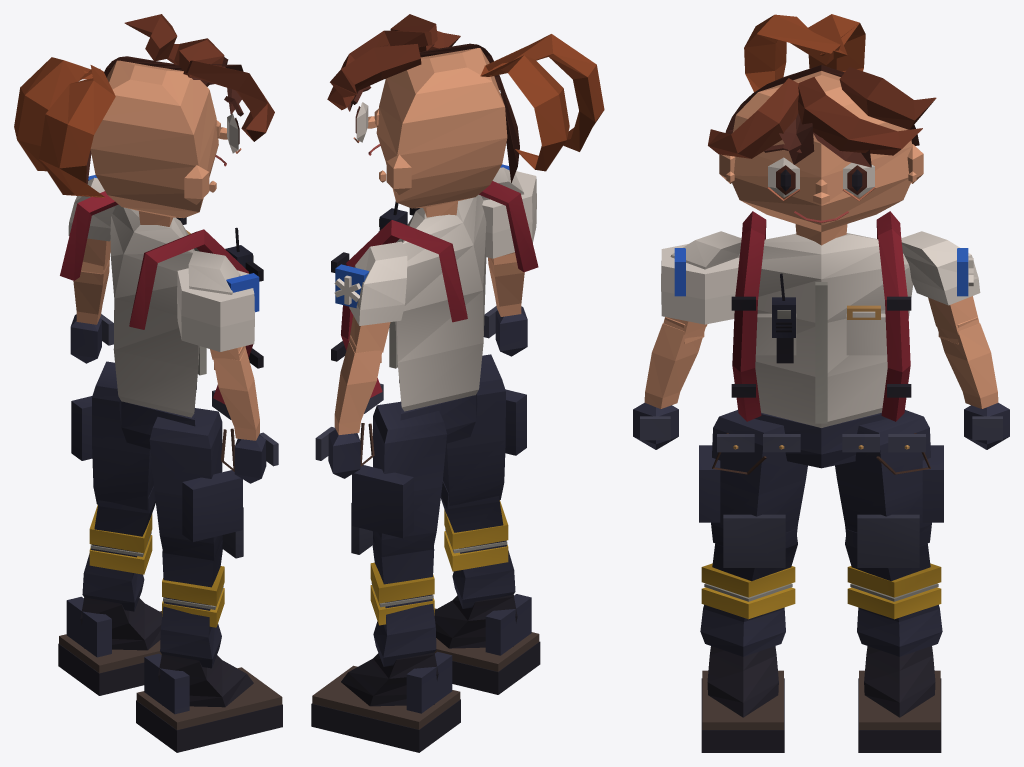
3 views of the same model, side by side, from view 1: azimuth 30°, elevation 25°; view 2: azimuth 150°, elevation 25°; view 3: azimuth 270°, elevation 25° (orthographic).
Visible parts, largest first — view 1: head_pal_picketWhite, torso_pal_picketWhite, legR_pal_picketWhite, footR_pal_picketWhite, footL_pal_picketWhite, armR_pal_picketWhite, legL_pal_picketWhite, shinR_pal_picketWhite, shinL_pal_picketWhite, foreArmR_pal_picketWhite, hip_pal_picketWhite, foreArmL_pal_picketWhite (+3 smaller); view 2: head_pal_picketWhite, torso_pal_picketWhite, legL_pal_picketWhite, footL_pal_picketWhite, footR_pal_picketWhite, legR_pal_picketWhite, shinL_pal_picketWhite, shinR_pal_picketWhite, armL_pal_picketWhite, foreArmL_pal_picketWhite, armR_pal_picketWhite, hip_pal_picketWhite (+3 smaller); view 3: torso_pal_picketWhite, head_pal_picketWhite, legL_pal_picketWhite, legR_pal_picketWhite, footL_pal_picketWhite, footR_pal_picketWhite, shinR_pal_picketWhite, shinL_pal_picketWhite, armR_pal_picketWhite, hip_pal_picketWhite, armL_pal_picketWhite, foreArmR_pal_picketWhite (+3 smaller).
Boxes of the visible parts, <box> form: head_pal_picketWhite: <box>14,14,274,226</box>; torso_pal_picketWhite: <box>60,191,263,417</box>; legR_pal_picketWhite: <box>149,408,243,560</box>; footR_pal_picketWhite: <box>136,653,282,752</box>; footL_pal_picketWhite: <box>58,596,161,695</box>; armR_pal_picketWhite: <box>177,250,259,360</box>; legL_pal_picketWhite: <box>71,361,153,510</box>; shinR_pal_picketWhite: <box>160,540,224,668</box>; shinL_pal_picketWhite: <box>82,486,155,611</box>; foreArmR_pal_picketWhite: <box>213,346,259,440</box>; hip_pal_picketWhite: <box>119,386,234,471</box>; foreArmL_pal_picketWhite: <box>73,254,109,324</box>; head_pal_picketWhite: <box>327,14,604,217</box>; torso_pal_picketWhite: <box>331,181,538,411</box>; legL_pal_picketWhite: <box>351,401,446,557</box>; footL_pal_picketWhite: <box>311,651,460,752</box>; footR_pal_picketWhite: <box>434,594,540,694</box>; legR_pal_picketWhite: <box>443,354,526,505</box>; shinL_pal_picketWhite: <box>370,535,436,666</box>; shinR_pal_picketWhite: <box>441,480,515,608</box>; armL_pal_picketWhite: <box>334,241,407,353</box>; foreArmL_pal_picketWhite: <box>334,335,382,434</box>; armR_pal_picketWhite: <box>481,164,536,258</box>; hip_pal_picketWhite: <box>360,380,477,466</box>; torso_pal_picketWhite: <box>731,211,913,427</box>; head_pal_picketWhite: <box>708,14,936,245</box>; legL_pal_picketWhite: <box>835,410,943,567</box>; legR_pal_picketWhite: <box>699,410,807,567</box>; footL_pal_picketWhite: <box>858,646,941,752</box>; footR_pal_picketWhite: <box>701,646,784,752</box>; shinR_pal_picketWhite: <box>700,529,797,656</box>; shinL_pal_picketWhite: <box>845,529,942,656</box>; armR_pal_picketWhite: <box>661,231,741,334</box>; hip_pal_picketWhite: <box>712,412,930,474</box>; armL_pal_picketWhite: <box>901,231,980,334</box>; foreArmR_pal_picketWhite: <box>644,317,705,408</box>.
Bounding box in the file's own units: 0.4898 × 1.41 × 0.724.
